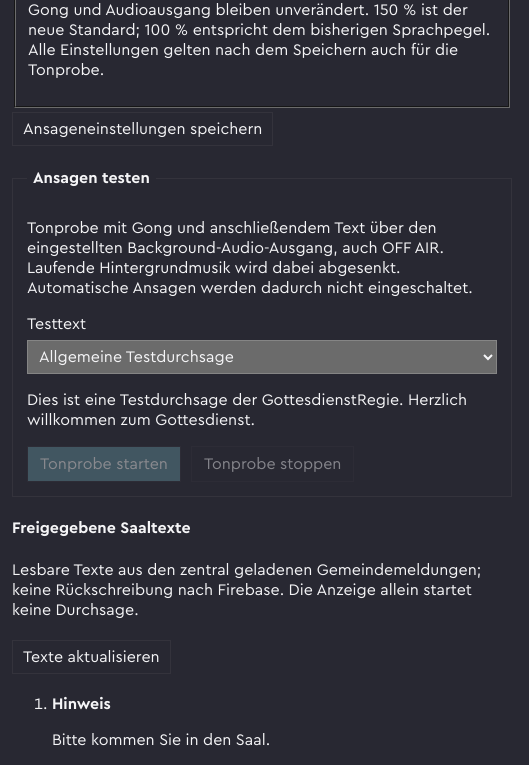
Scenario: inactive announcement preparation settings › uses central realtime data and removes revoked messages without a second Firebase start
The width and height of the screenshot is (529, 765).
(page scrolled)
expect the text "Bitte kommen Sie in den Saal." is shown: met, box x1=52 y1=732 x2=270 y2=748
Click the button "Texte aktualisieren".
click(91, 657)  # box x1=12 y1=640 x2=171 y2=674
(page scrolled)
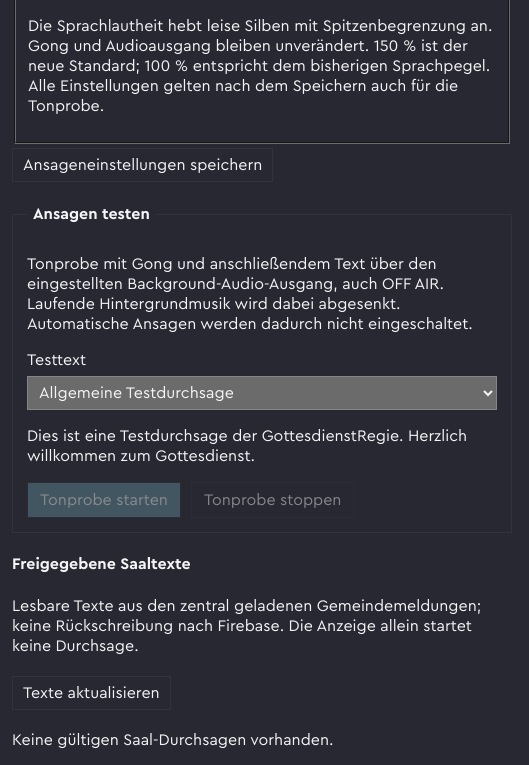
expect the text "Bitte kommen Sie in den Saal." is gone: met
